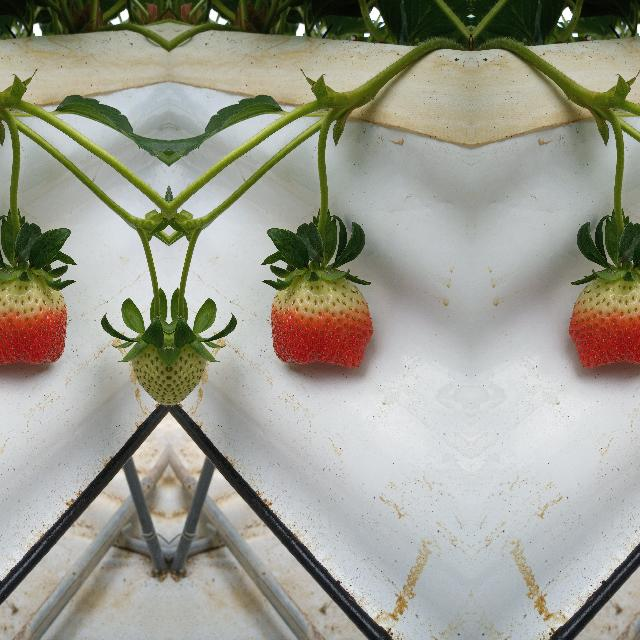Health_75: (269, 270, 373, 368), (568, 270, 640, 368), (0, 270, 67, 368)
